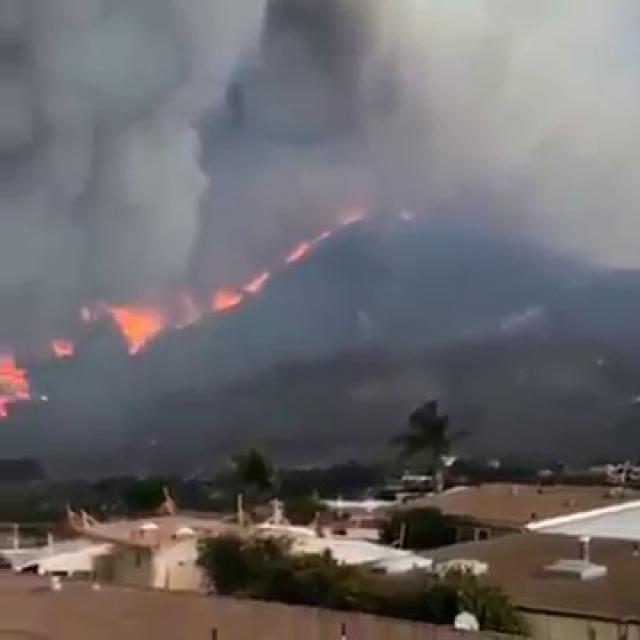Fire: (0, 261, 140, 442)
Smoke: (0, 0, 640, 212), (0, 175, 277, 332)
